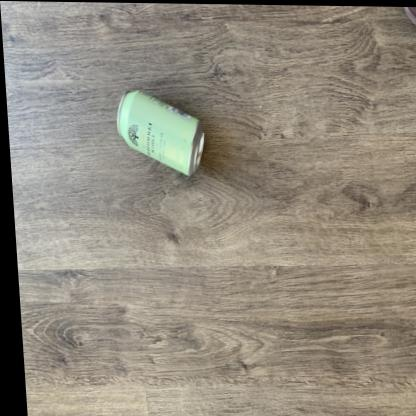trash: (117, 90, 203, 175)
